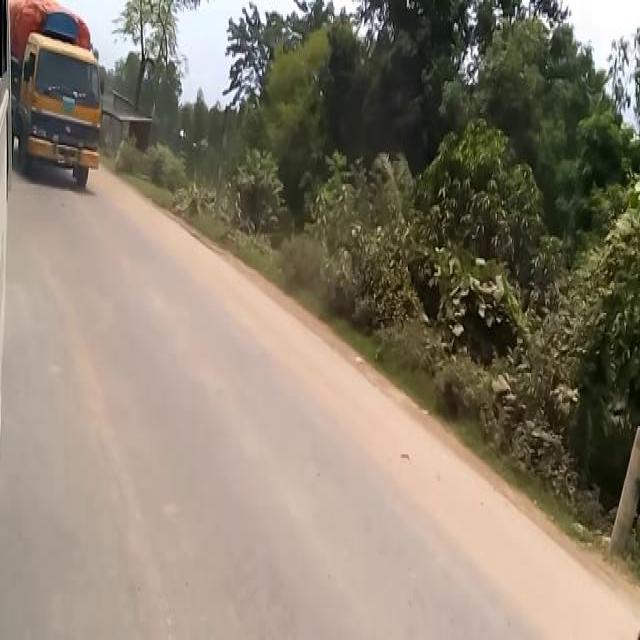truck: (11, 2, 105, 194)
